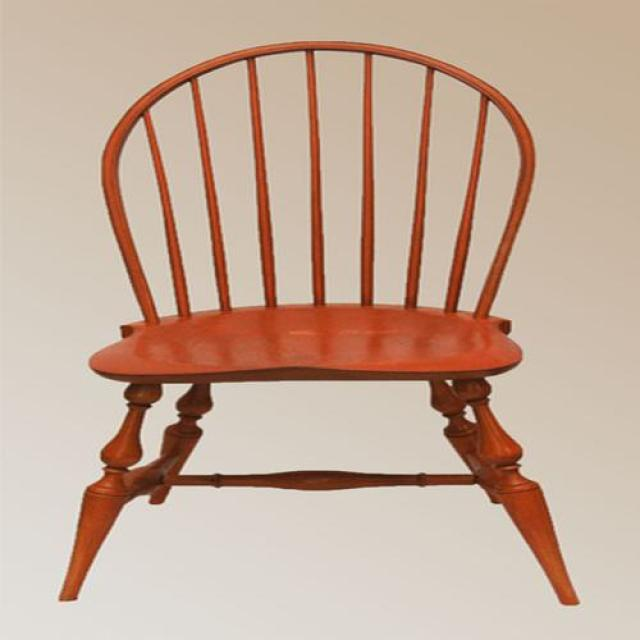chair: (61, 42, 580, 609)
